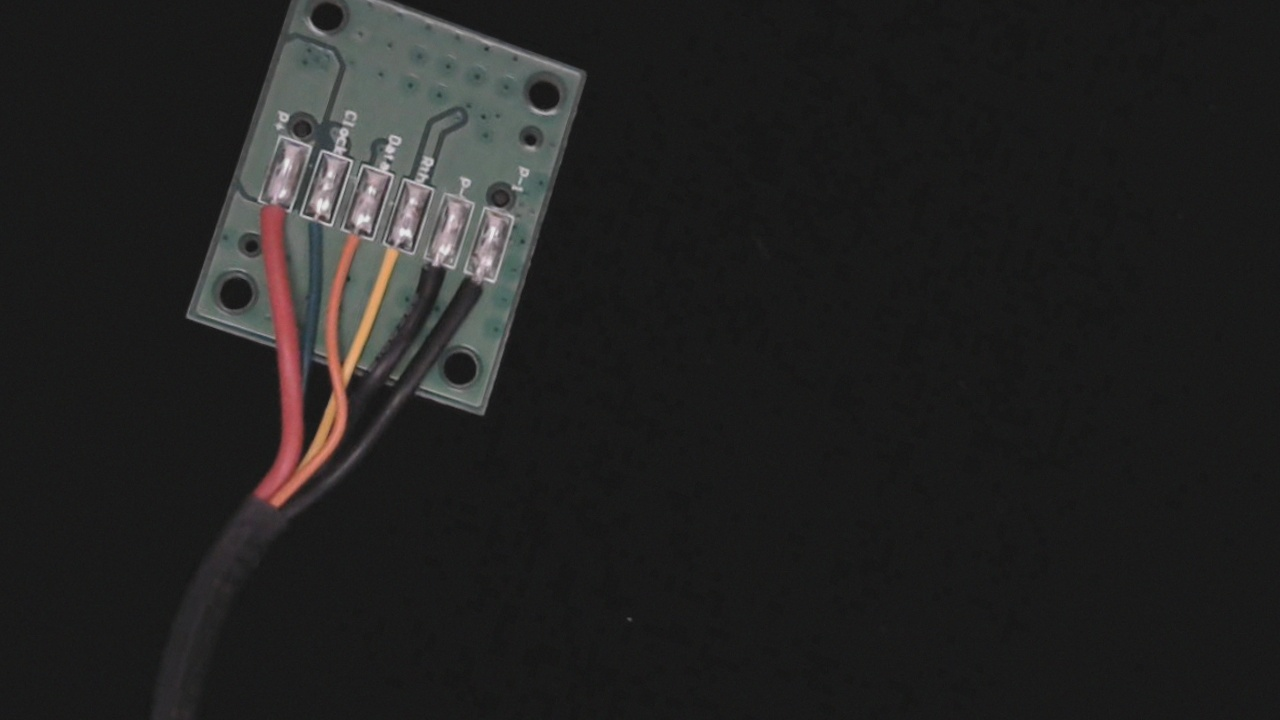Black: (404, 232, 465, 321)
Black1: (446, 247, 504, 330)
Green: (284, 189, 344, 276)
Orange: (323, 204, 382, 292)
Red: (239, 173, 300, 260)
Yellow: (362, 217, 424, 308)
